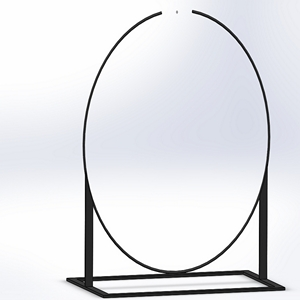circle: (65, 7, 287, 298)
